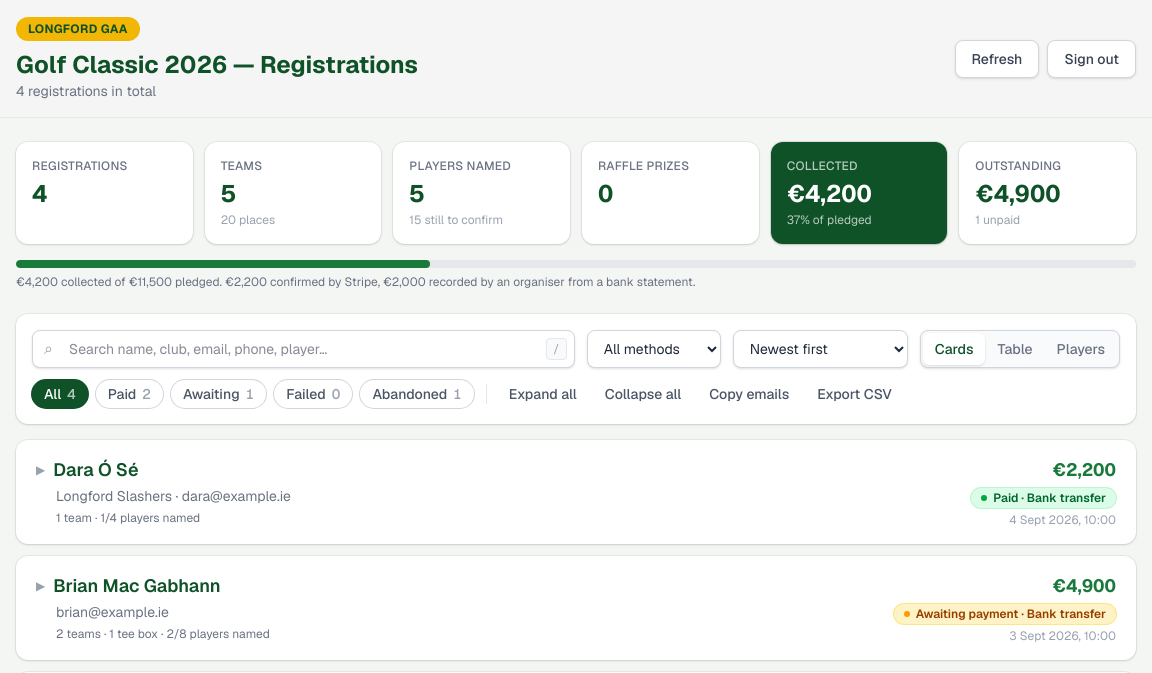
Test: dashboard — finding someone › finds a registrant by the name of a player they entered
Type "Niamh de Búrca" into the field named "Search registrations" at (303, 349), box [32,330,575,368]
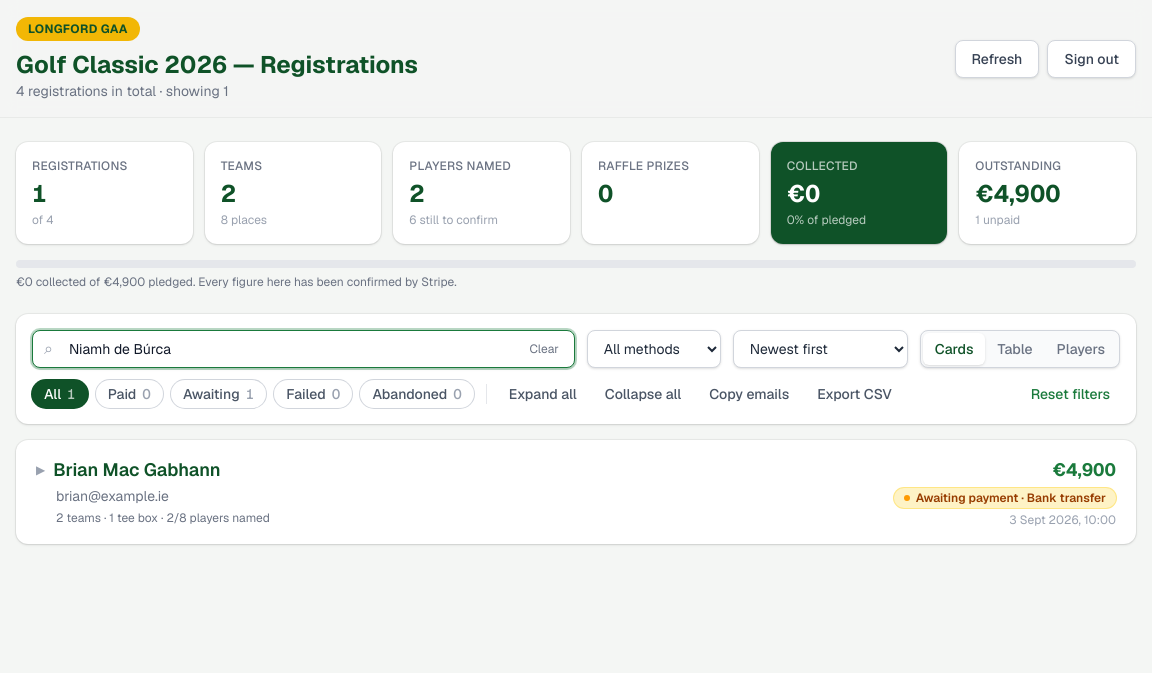
Check: the text "Brian Mac Gabhann" is shown, box [53,456,220,484]
Check: the button "Dara Ó Sé" is gone
